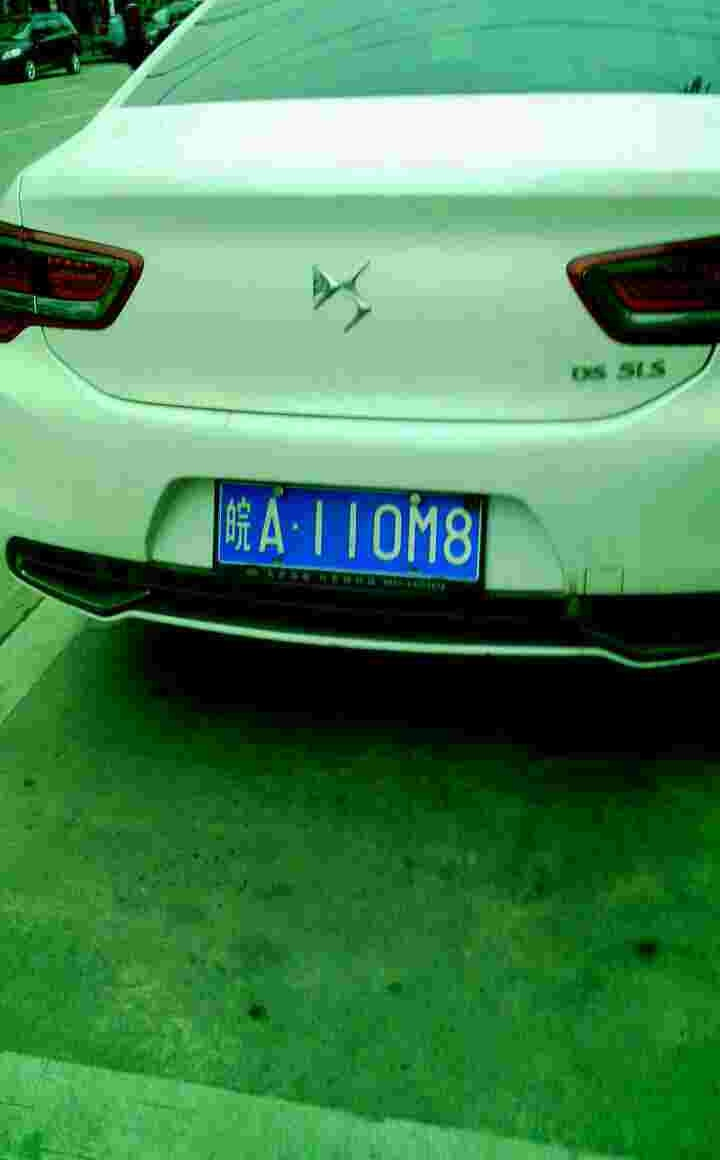car: (225, 479, 483, 587)
